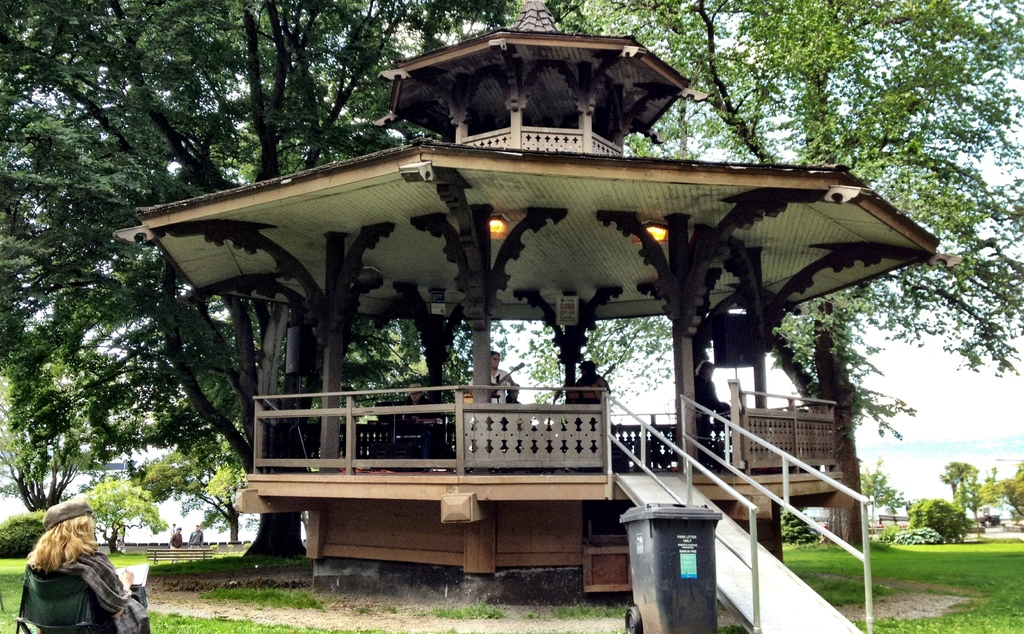Tree: (0, 0, 713, 562), (561, 0, 1020, 540), (0, 321, 127, 506), (131, 425, 330, 541), (941, 459, 1007, 539), (852, 463, 906, 520), (902, 497, 977, 538), (5, 506, 53, 568), (1002, 468, 1023, 525)
